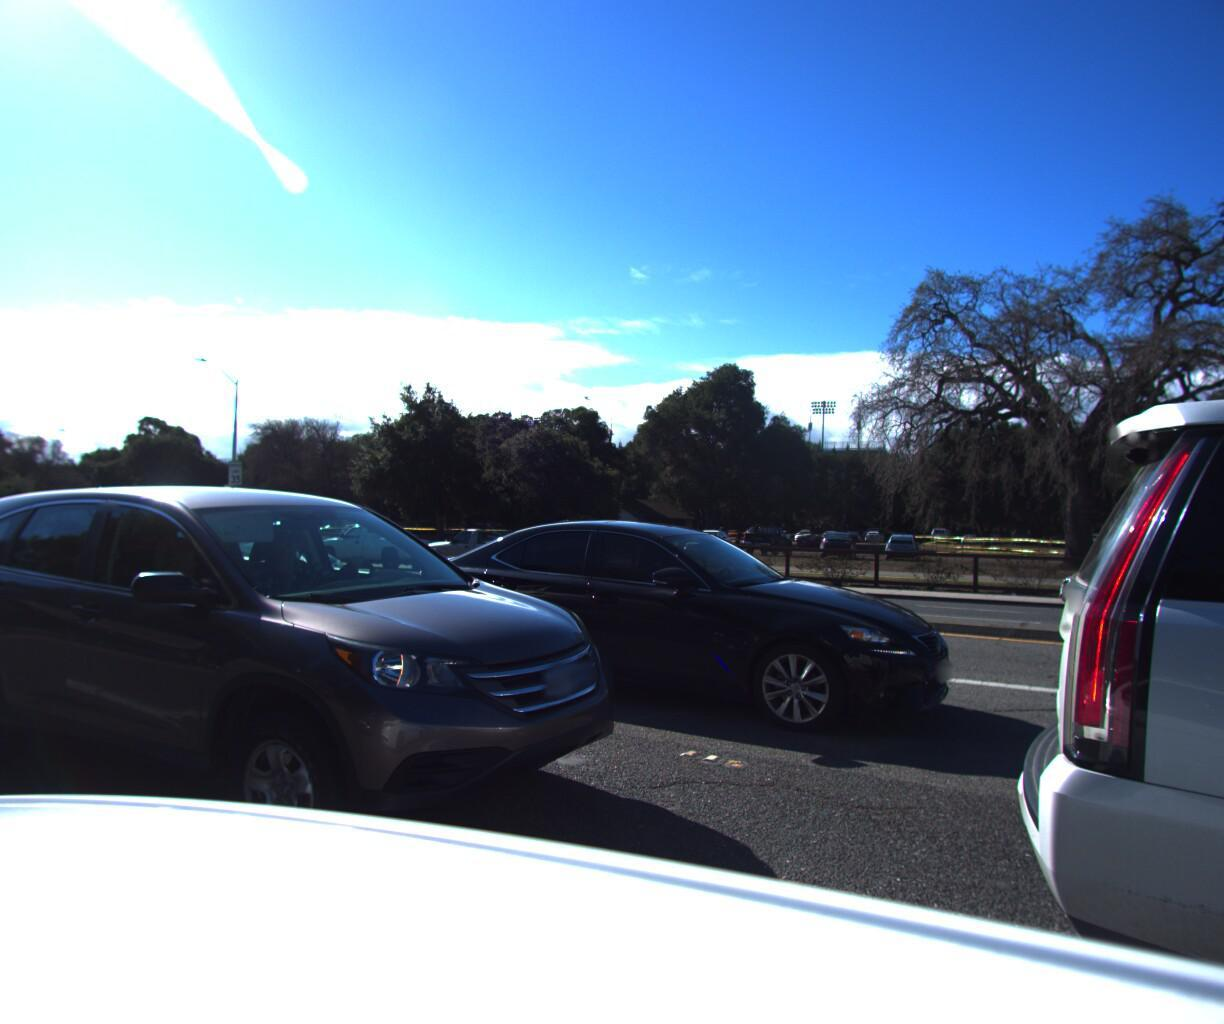car: (0, 464, 652, 911), (389, 513, 968, 769), (0, 483, 379, 666), (313, 515, 455, 571), (419, 520, 553, 576), (0, 505, 57, 543)
